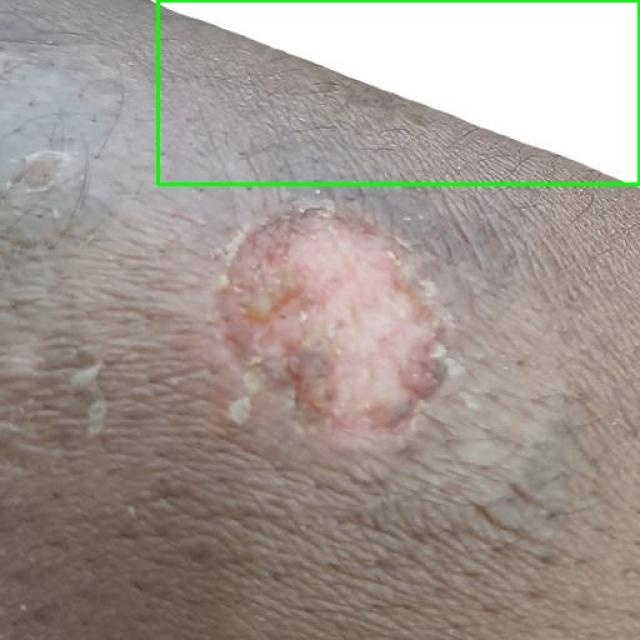Contact Dermatitis: (158, 0, 639, 184)
